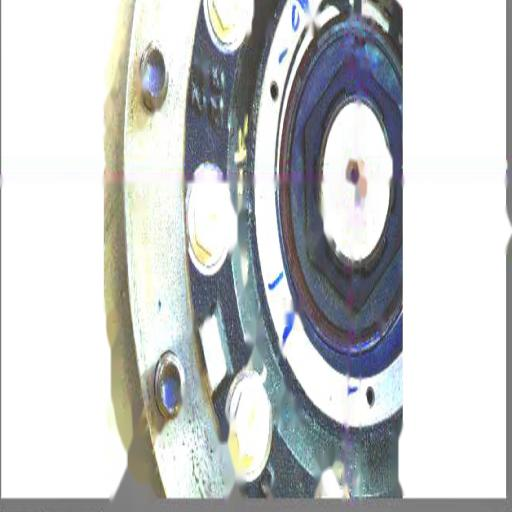center: (345, 163, 363, 191)
notch: (352, 29, 367, 53)
